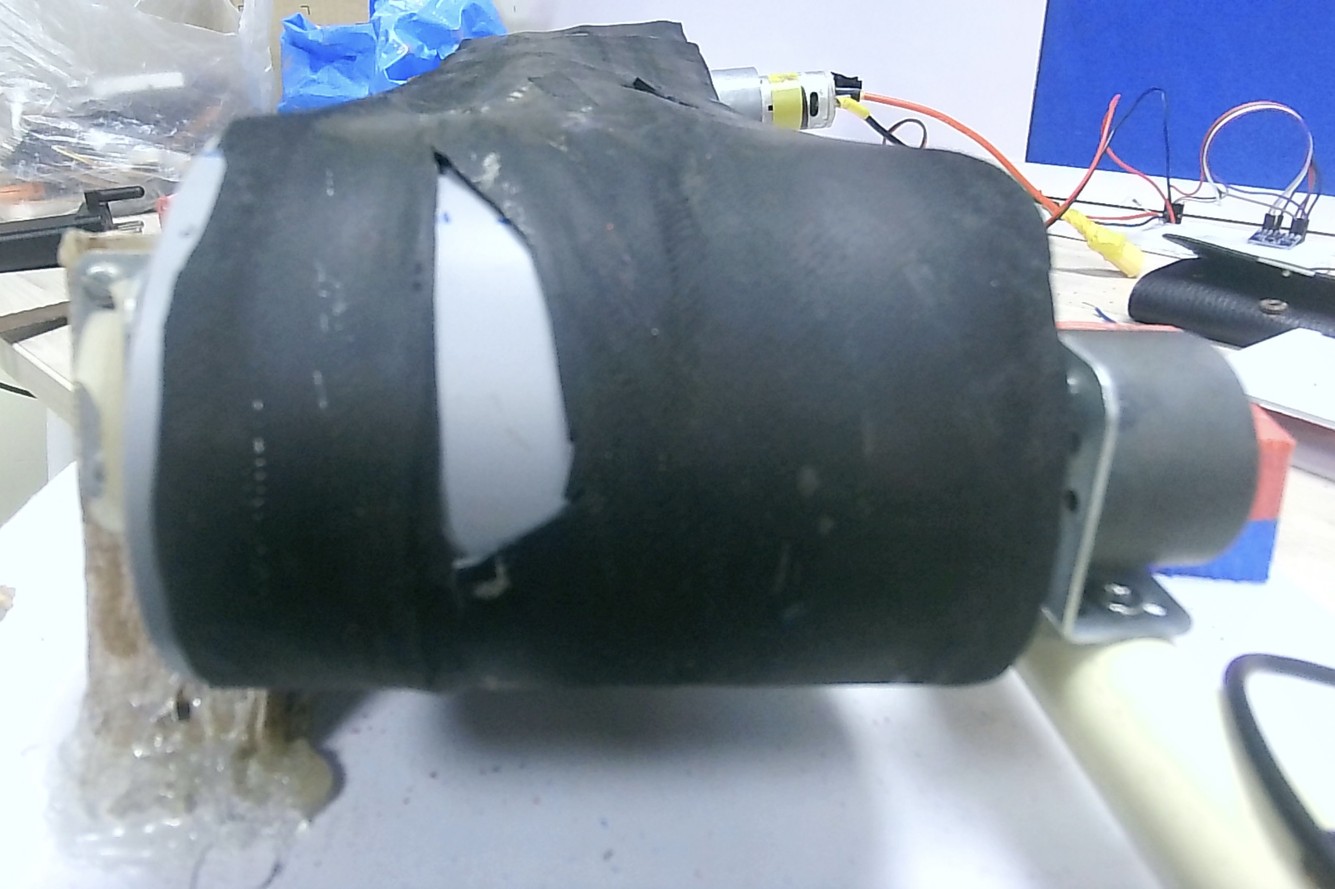hole: (406, 129, 601, 573)
